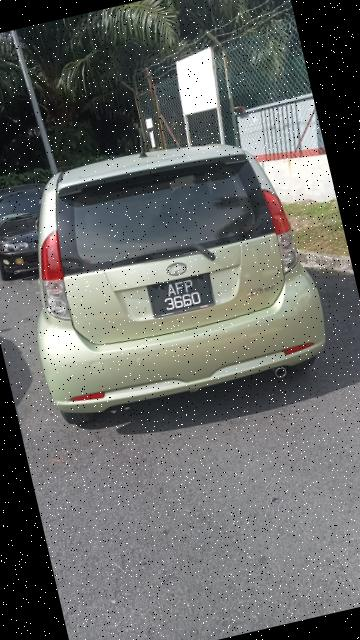License_Plate: (151, 275, 214, 318)
